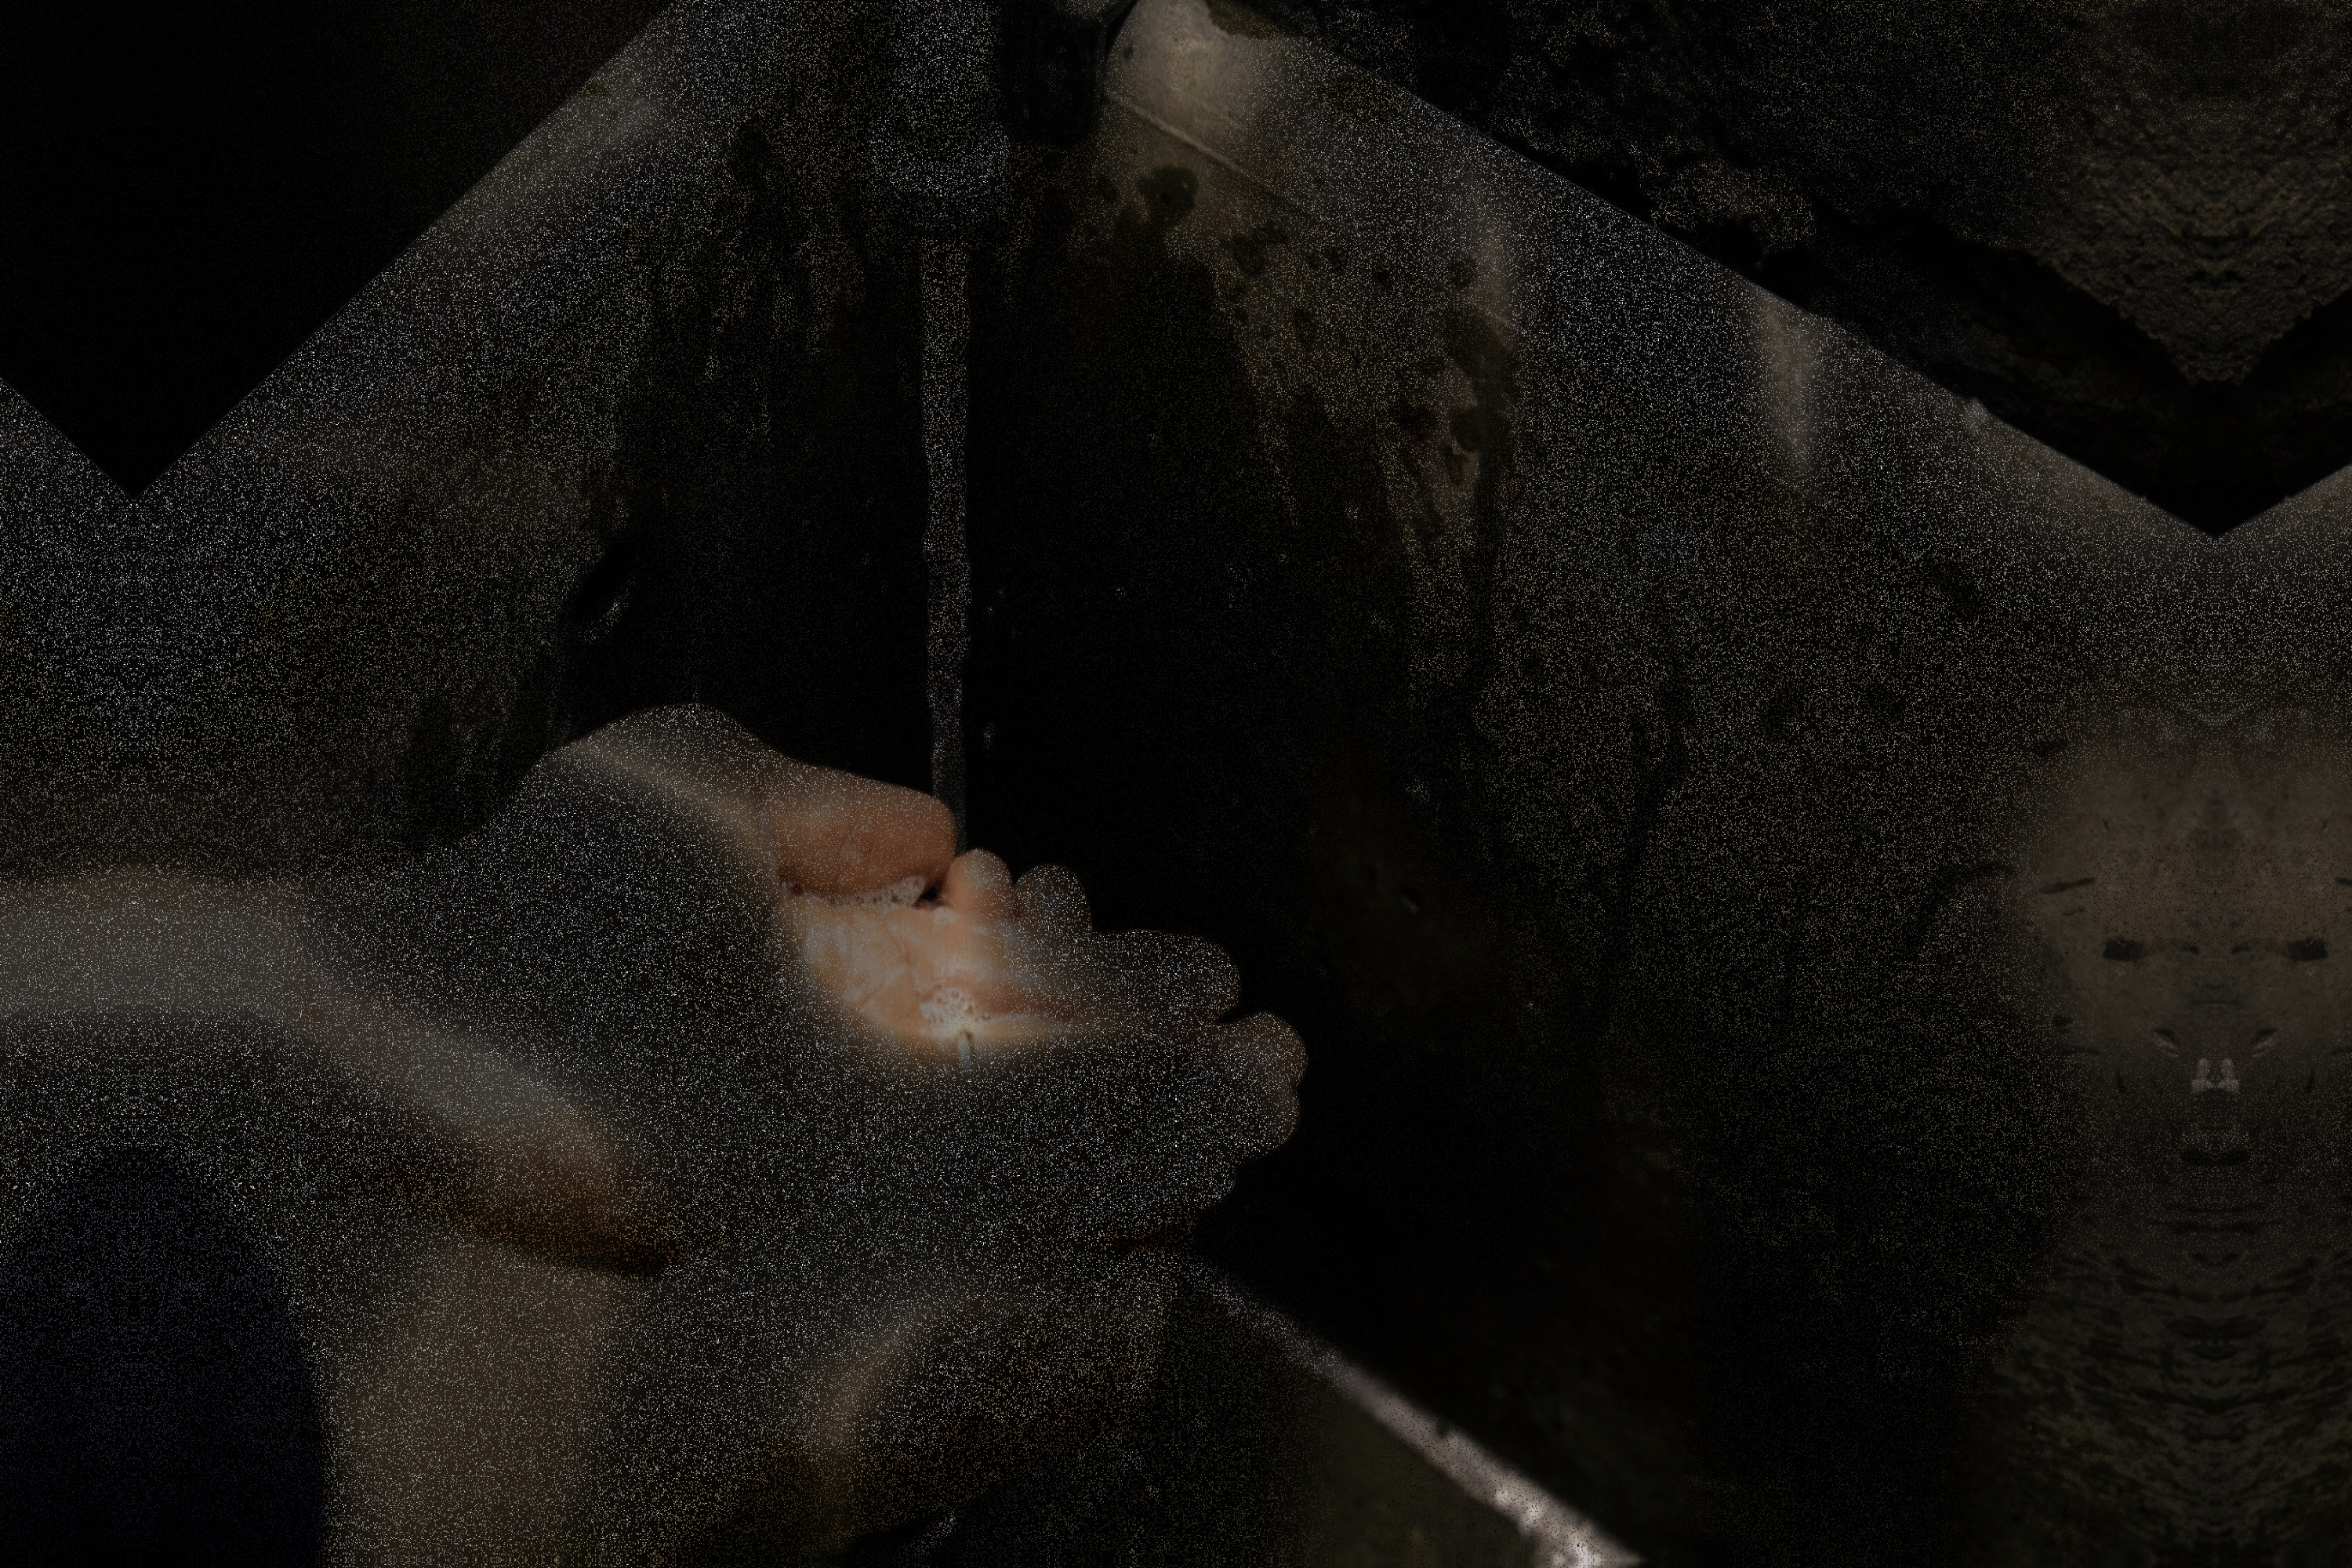washing hand: (341, 4, 1503, 1559)
